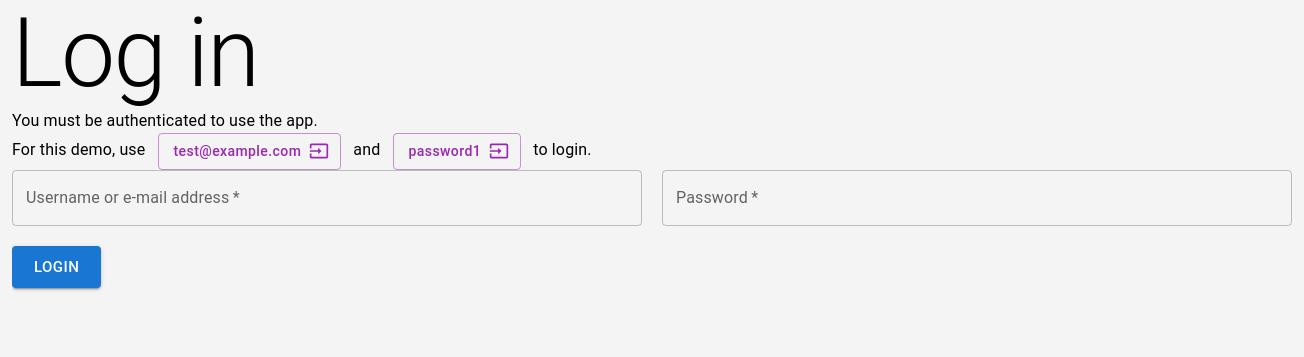
Scenario: Login component › shows a success message with valid credentials
The image size is (1304, 357).
Type "joe@example.com" into the field labelled "Username or e-mail address" at (327, 198), box [12, 170, 642, 226]
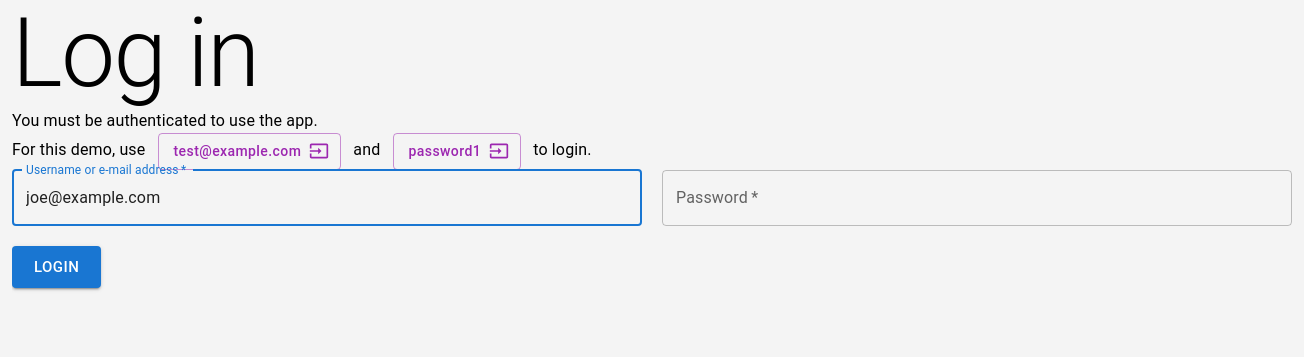
Type "password1" into the password field labelled "Password *" at (977, 198), box [662, 170, 1292, 226]
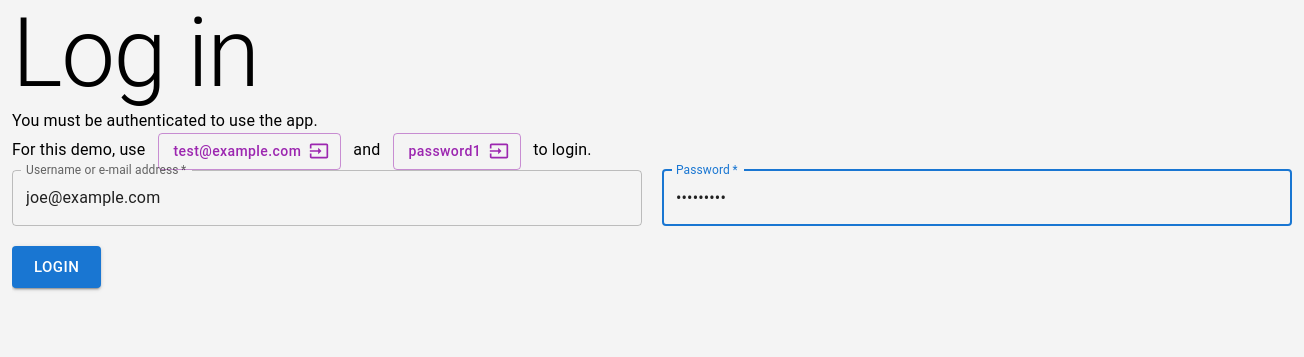
Click the button "Login" at (57, 267), box [12, 246, 101, 288]
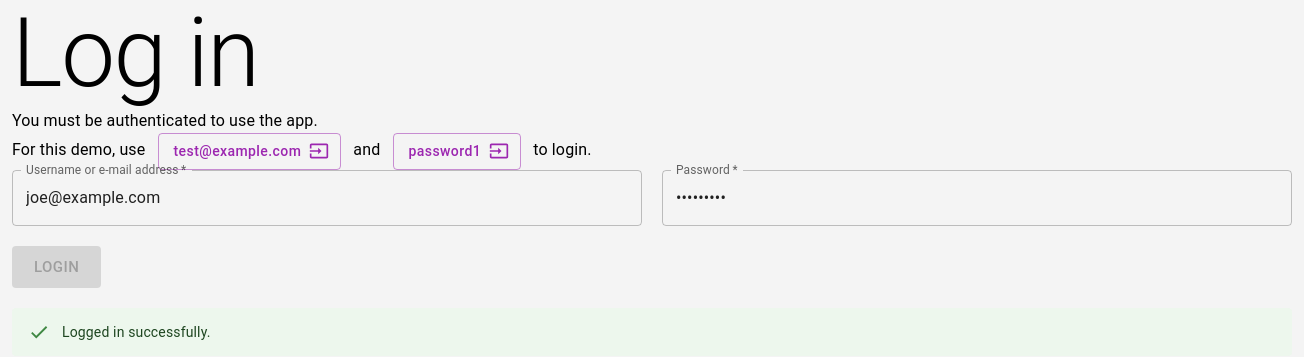
Result: the message reads "Logged in successfully." at [62, 324, 211, 340]
